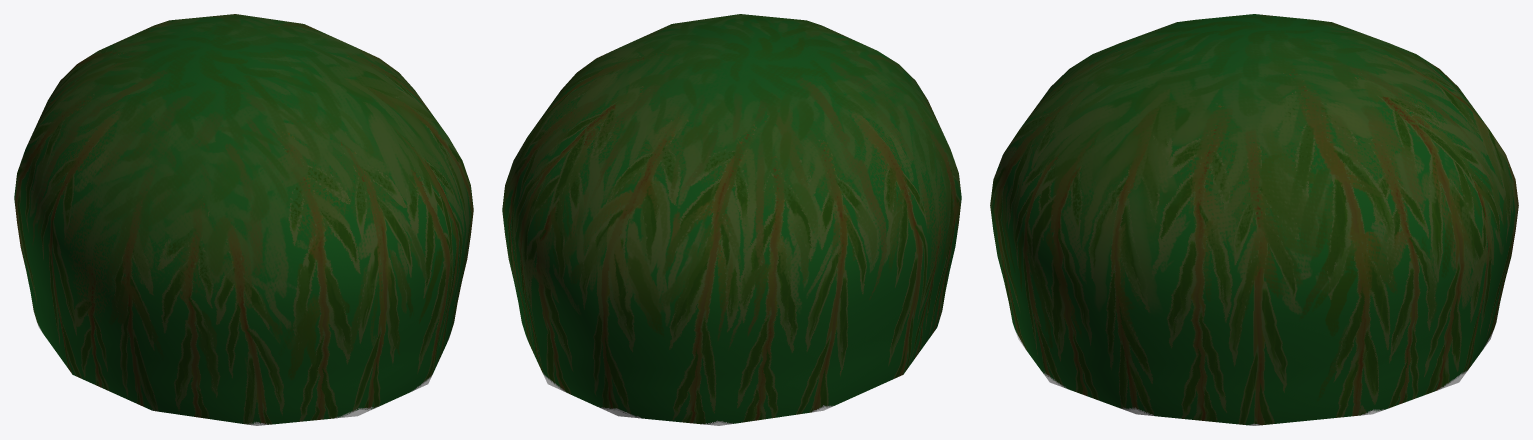
The model's file is dome 2 mesh.fbx.
The picture shows the model from 3 angles, left to right: view 1: azimuth 30°, elevation 25°; view 2: azimuth 150°, elevation 25°; view 3: azimuth 270°, elevation 25°; orthographic projection. The views are drawn at different scales.
Parts seen in each view (by area): view 1: DomeMesh2; view 2: DomeMesh2; view 3: DomeMesh2.
Boxes of the visible parts, x1,y1,x2,y2 form: DomeMesh2: (14, 14, 473, 425); DomeMesh2: (502, 14, 961, 425); DomeMesh2: (990, 14, 1518, 425).
Size of the model in its own units: 14.39 by 10.33 by 16.55.
